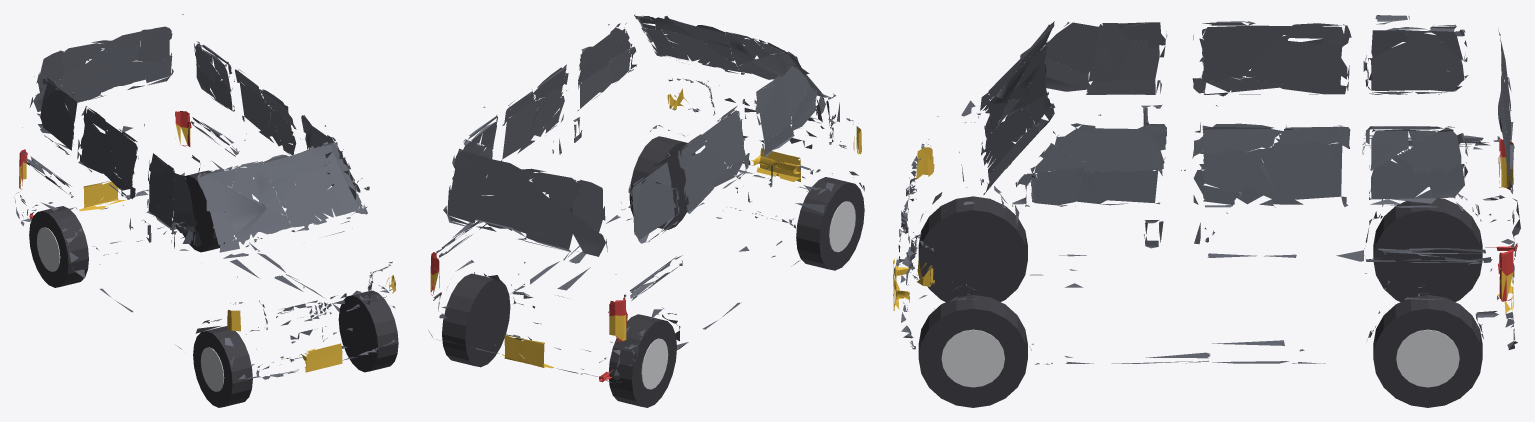
File: actymap_a_fixed.glb
3 renders of one model, left to right at view 1: azimuth 30°, elevation 25°; view 2: azimuth 150°, elevation 25°; view 3: azimuth 270°, elevation 25°, orthographic. The views are drawn at different scales.
Visible parts, largest first — view 1: actymap_a_fixed, actymap_a_tire_front_l, actymap_a_tire_front_r, actymap_a_tire_rear_r, actymap_a_tire_rear_l, actymap_a_rim_rear_r, actymap_a_rim_front_r; view 2: actymap_a_fixed, actymap_a_tire_rear_l, actymap_a_tire_front_r, actymap_a_tire_rear_r, actymap_a_tire_front_l, actymap_a_rim_front_r, actymap_a_rim_rear_r; view 3: actymap_a_fixed, actymap_a_tire_front_r, actymap_a_tire_rear_r, actymap_a_tire_rear_l, actymap_a_tire_front_l, actymap_a_rim_rear_l, actymap_a_rim_front_l.
Part boxes in pixels (box(x1,y1,x2,y2)): actymap_a_fixed: box(14, 14, 396, 379); actymap_a_tire_front_l: box(338, 290, 398, 372); actymap_a_tire_front_r: box(193, 326, 252, 407); actymap_a_tire_rear_r: box(29, 206, 88, 287); actymap_a_tire_rear_l: box(183, 170, 225, 252); actymap_a_rim_rear_r: box(37, 227, 60, 271); actymap_a_rim_front_r: box(200, 347, 224, 391); actymap_a_fixed: box(428, 14, 864, 383); actymap_a_tire_rear_l: box(442, 273, 510, 367); actymap_a_tire_front_r: box(796, 177, 864, 270); actymap_a_tire_rear_r: box(608, 314, 676, 407); actymap_a_tire_front_l: box(629, 136, 695, 229); actymap_a_rim_front_r: box(829, 201, 855, 252); actymap_a_rim_rear_r: box(641, 338, 668, 389); actymap_a_fixed: box(893, 15, 1520, 364); actymap_a_tire_front_r: box(918, 196, 1027, 301); actymap_a_tire_rear_r: box(1373, 198, 1482, 301); actymap_a_tire_rear_l: box(1373, 295, 1482, 407); actymap_a_tire_front_l: box(918, 295, 1027, 407); actymap_a_rim_rear_l: box(1396, 329, 1459, 387); actymap_a_rim_front_l: box(941, 329, 1004, 387).
Size of the model in its own units: 1.66 by 1.9 by 3.38.
